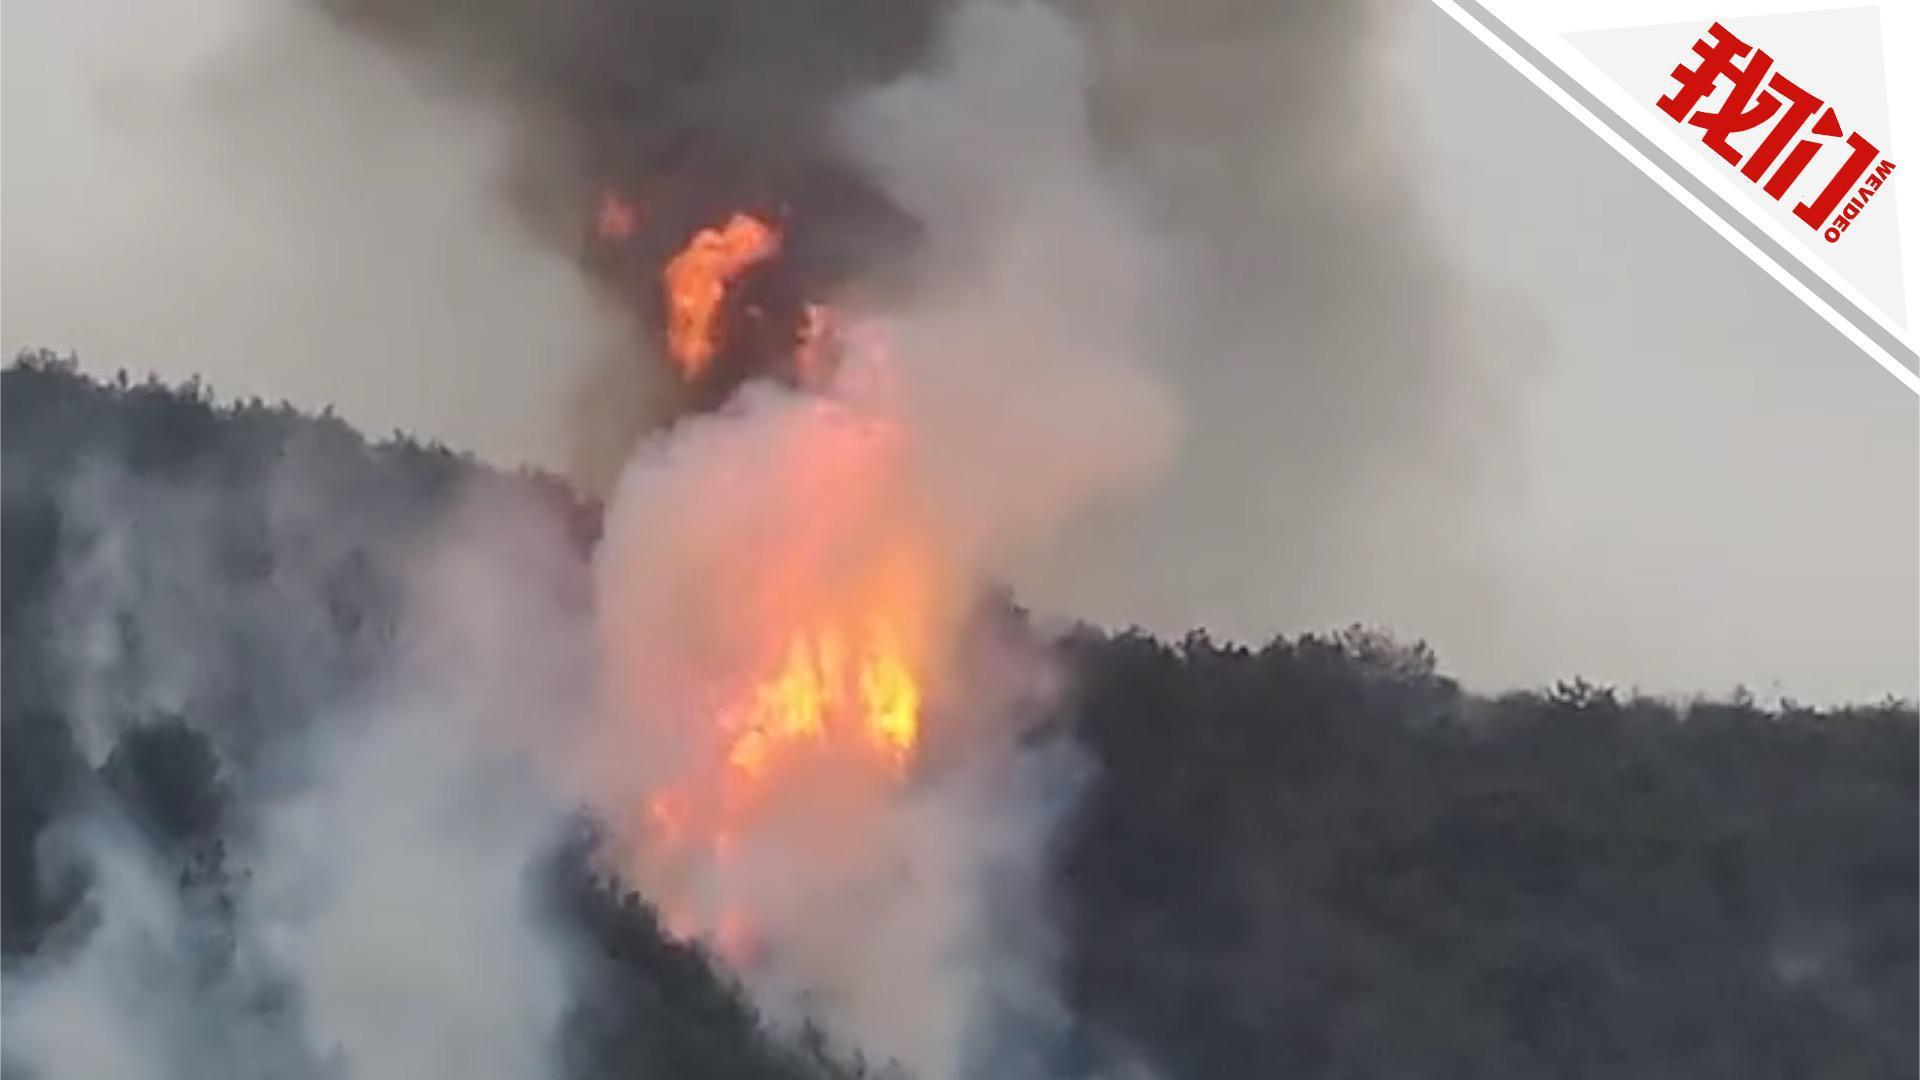fire: (583, 175, 882, 414), (673, 570, 939, 771)
